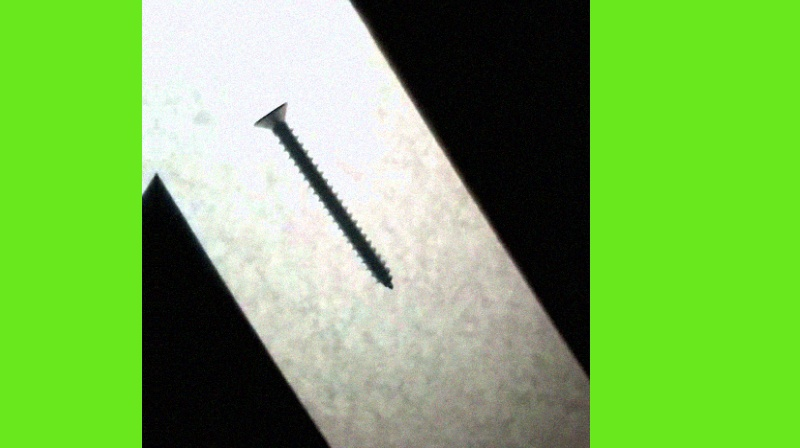S002: (250, 97, 393, 291)
